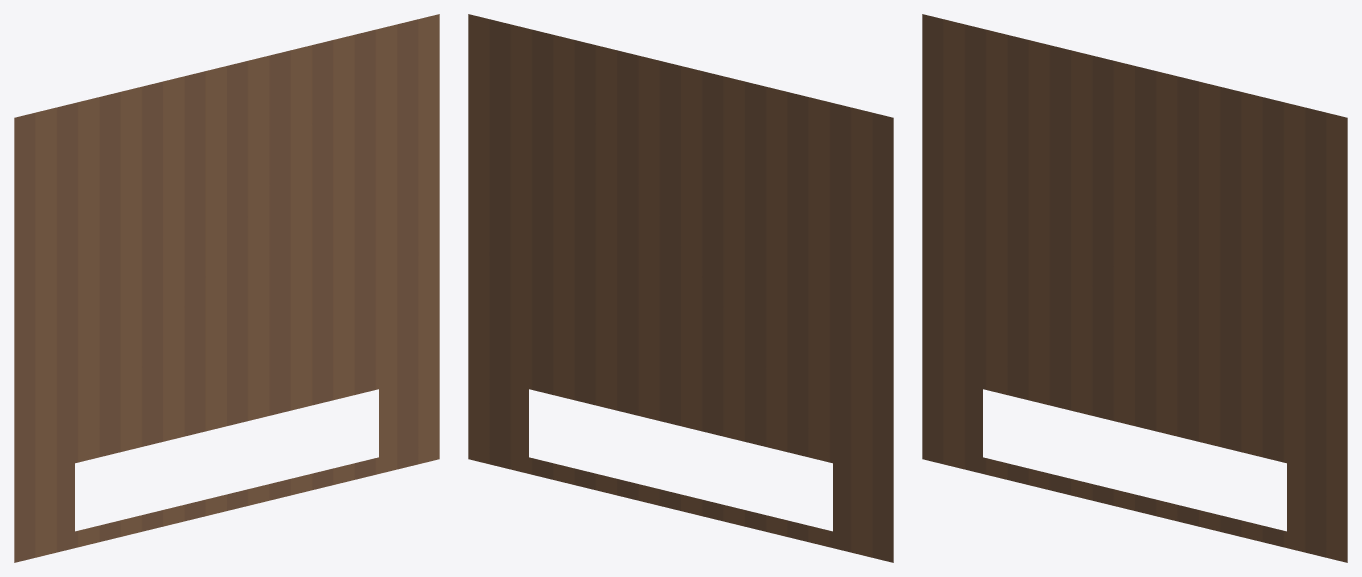
Rendered from DefaultLevel_Wall_F.fbx.
3 renders of one model, left to right at view 1: azimuth 30°, elevation 25°; view 2: azimuth 150°, elevation 25°; view 3: azimuth 330°, elevation 25°, orthographic.
Parts seen in each view (by area): view 1: DefaultLevel_Wall_F; view 2: DefaultLevel_Wall_F; view 3: DefaultLevel_Wall_F.
Part boxes in pixels (x1,y1,x2,y2): DefaultLevel_Wall_F: (14,14,439,562); DefaultLevel_Wall_F: (468,14,893,562); DefaultLevel_Wall_F: (922,14,1347,562).
Size of the model in its own units: 2000 by 2000 by 0.
